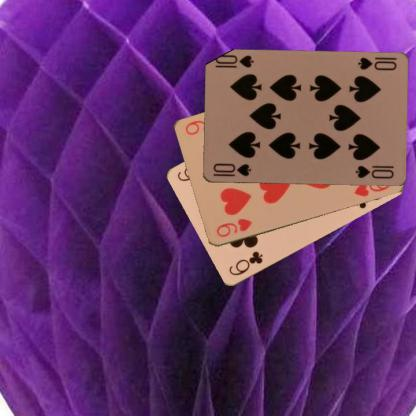10s: (354, 55, 398, 72), (210, 161, 252, 178)
6c: (226, 248, 265, 278)
9h: (213, 216, 254, 239)
